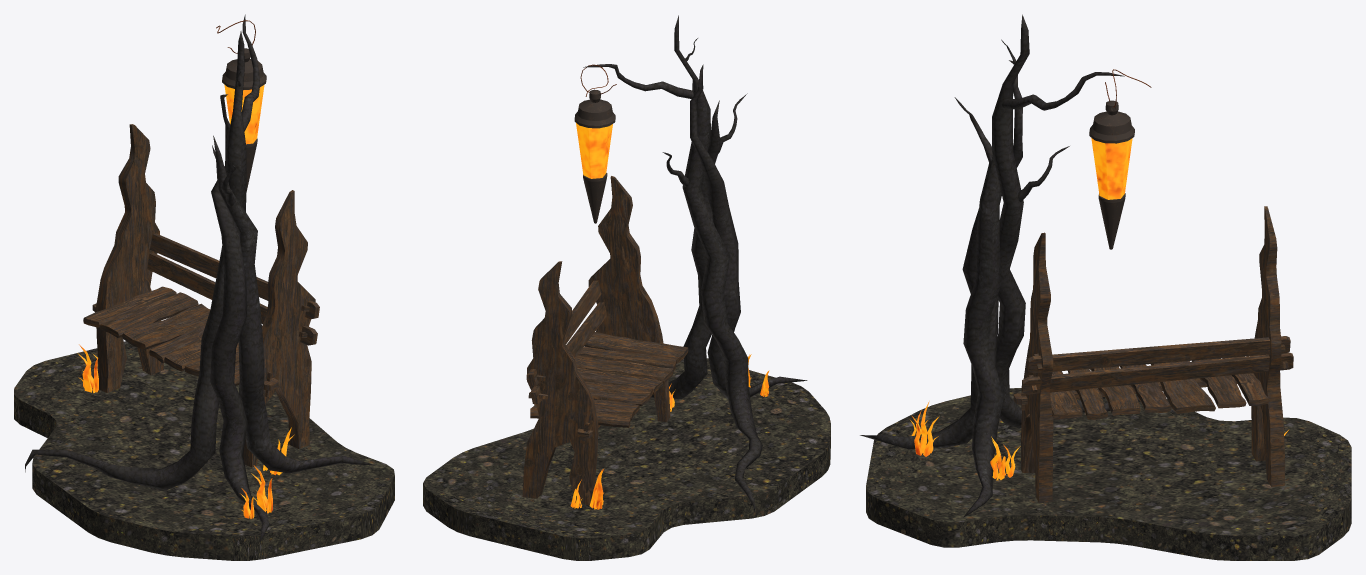
File: Ponto_encontro_A.glb
3 renders of one model, left to right at view 1: azimuth 30°, elevation 25°; view 2: azimuth 150°, elevation 25°; view 3: azimuth 270°, elevation 25°, orthographic. The views are drawn at different scales.
Visible parts, largest first — view 1: Base, LP_002_low, Tree3, Tree2, Tree1, LP_001_low, LP_003_low, Light, Light2, Branch1, Grass3, Grass5; view 2: Base, LP_002_low, Tree3, LP_001_low, Tree2, Tree1, LP_003_low, Light, Light2, Branch1, Light1; view 3: Base, LP_002_low, LP_003_low, Tree1, Tree3, LP_001_low, Tree2, Light, Light2, Branch1, Light1, Grass5.
Boxes of the visible parts, x1,y1,x2,y2 form: Base: (14, 341, 394, 560); LP_002_low: (96, 124, 315, 467); Tree3: (25, 31, 246, 490); Tree2: (210, 94, 269, 542); Tree1: (213, 135, 373, 473); LP_001_low: (83, 286, 239, 385); LP_003_low: (92, 233, 319, 397); Light: (224, 84, 264, 144); Light2: (222, 48, 266, 89); Branch1: (242, 14, 260, 131); Grass3: (77, 344, 98, 393); Grass5: (251, 465, 272, 513); Base: (423, 358, 830, 560); LP_002_low: (522, 176, 670, 504); Tree3: (674, 15, 762, 514); LP_001_low: (530, 332, 688, 427); Tree2: (690, 64, 807, 399); Tree1: (651, 100, 720, 399); LP_003_low: (526, 280, 606, 444); Light: (576, 123, 612, 178); Light2: (574, 89, 615, 128); Branch1: (583, 64, 693, 98); Light1: (583, 173, 607, 223); Base: (866, 388, 1351, 560); LP_002_low: (1021, 206, 1284, 503); LP_003_low: (1013, 336, 1293, 410); Tree1: (963, 155, 1003, 517); Tree3: (992, 14, 1140, 428); LP_001_low: (1050, 356, 1268, 419); Tree2: (860, 60, 1022, 449); Light: (1091, 138, 1132, 199); Light2: (1089, 100, 1134, 143); Branch1: (1001, 72, 1124, 110); Light1: (1098, 193, 1125, 249); Grass5: (911, 401, 939, 456).
Size of the model in its own units: 1.48 by 2.22 by 2.08.
Materials: 1 (1 with a texture image).
